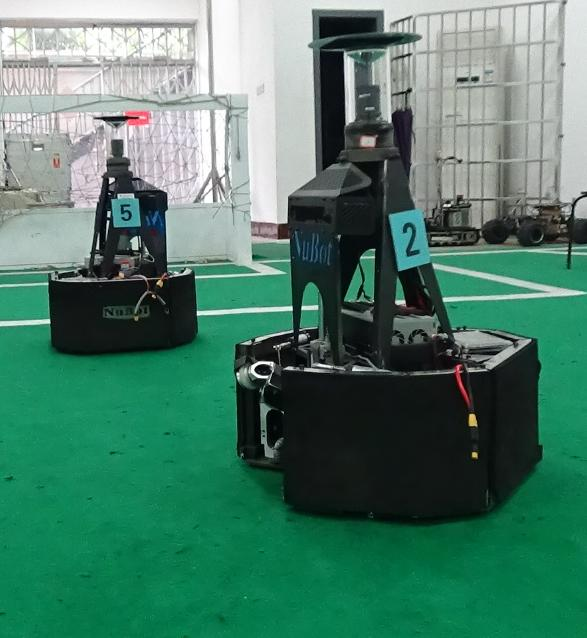robot: (234, 31, 544, 533), (41, 114, 201, 361)
